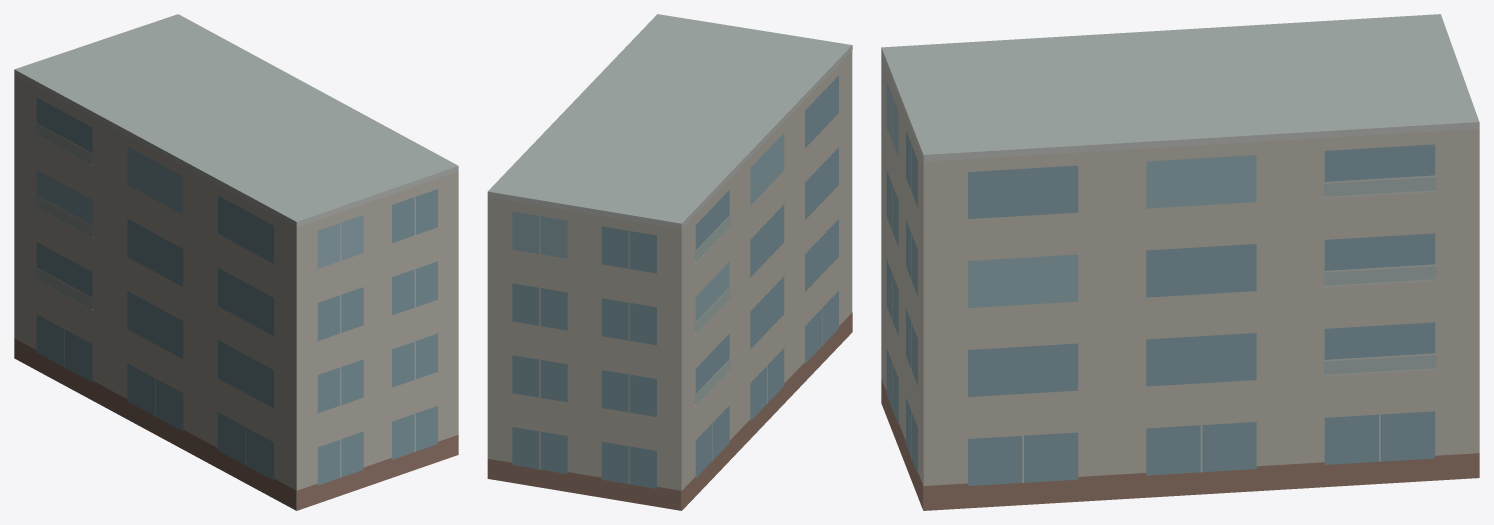
Rendered from survey-upis-32631068.glb.
3 renders of one model, left to right at view 1: azimuth 30°, elevation 25°; view 2: azimuth 150°, elevation 25°; view 3: azimuth 270°, elevation 25°, orthographic. The views are drawn at different scales.
Parts seen in each view (by area): view 1: survey-upis-32631068.tmp; view 2: survey-upis-32631068.tmp; view 3: survey-upis-32631068.tmp.
Boxes of the visible parts, x1=… form: survey-upis-32631068.tmp: x1=14, y1=14, x2=458, y2=510; survey-upis-32631068.tmp: x1=487, y1=14, x2=852, y2=510; survey-upis-32631068.tmp: x1=881, y1=14, x2=1479, y2=510.
Size of the model in its own units: 11.05 by 13 by 19.81.
